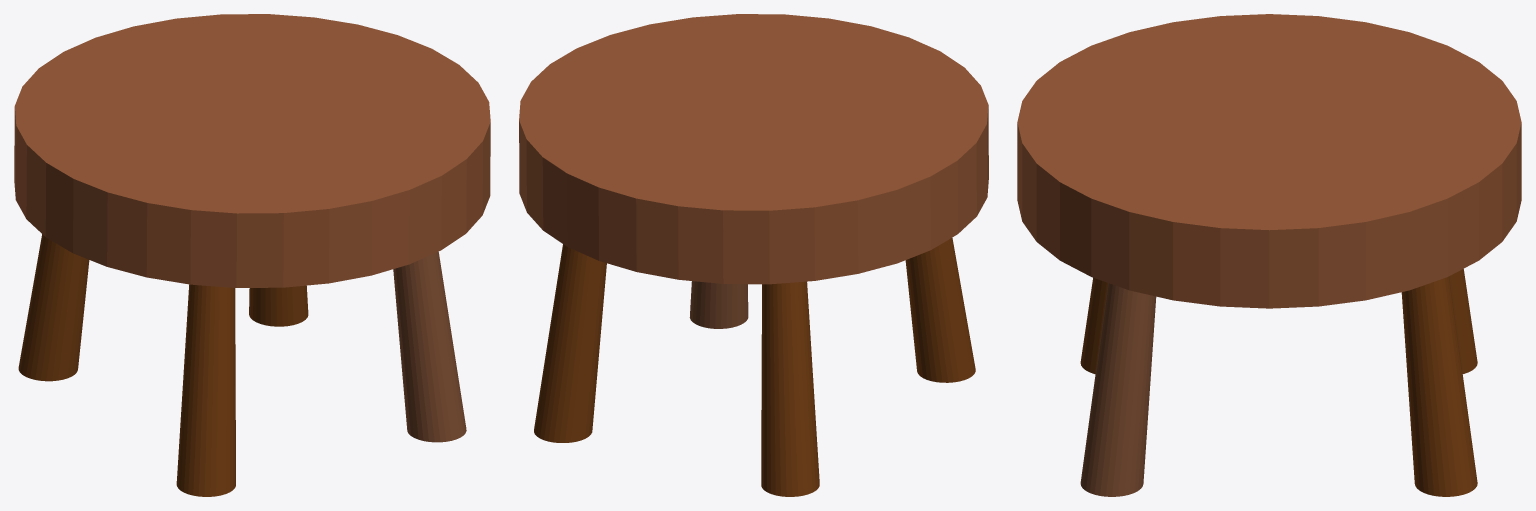
The model's file is M_TabouretAnim.fbx.
3 renders of one model, left to right at view 1: azimuth 30°, elevation 25°; view 2: azimuth 150°, elevation 25°; view 3: azimuth 270°, elevation 25°, orthographic. The views are drawn at different scales.
Parts seen in each view (by area): view 1: Cylindre.007; view 2: Cylindre.007; view 3: Cylindre.007.
Boxes of the visible parts, x1=… form: Cylindre.007: x1=14, y1=14, x2=490, y2=496; Cylindre.007: x1=519, y1=14, x2=988, y2=496; Cylindre.007: x1=1017, y1=14, x2=1521, y2=496.
Bounding box in the file's own units: 135 × 90.3 × 135.
